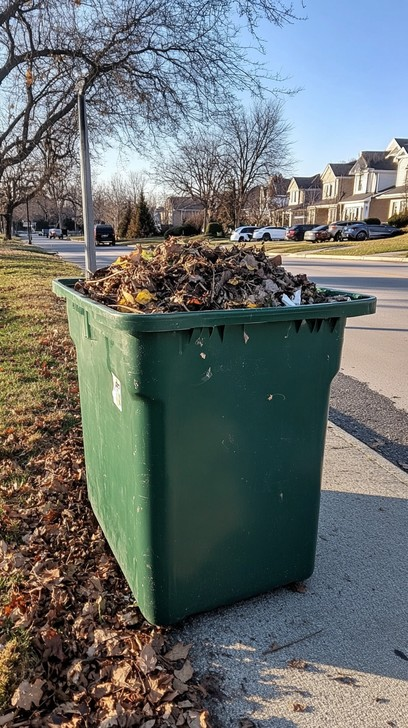Car: (219, 219, 293, 242), (344, 218, 394, 246)
TrashBin: (54, 228, 358, 630)
